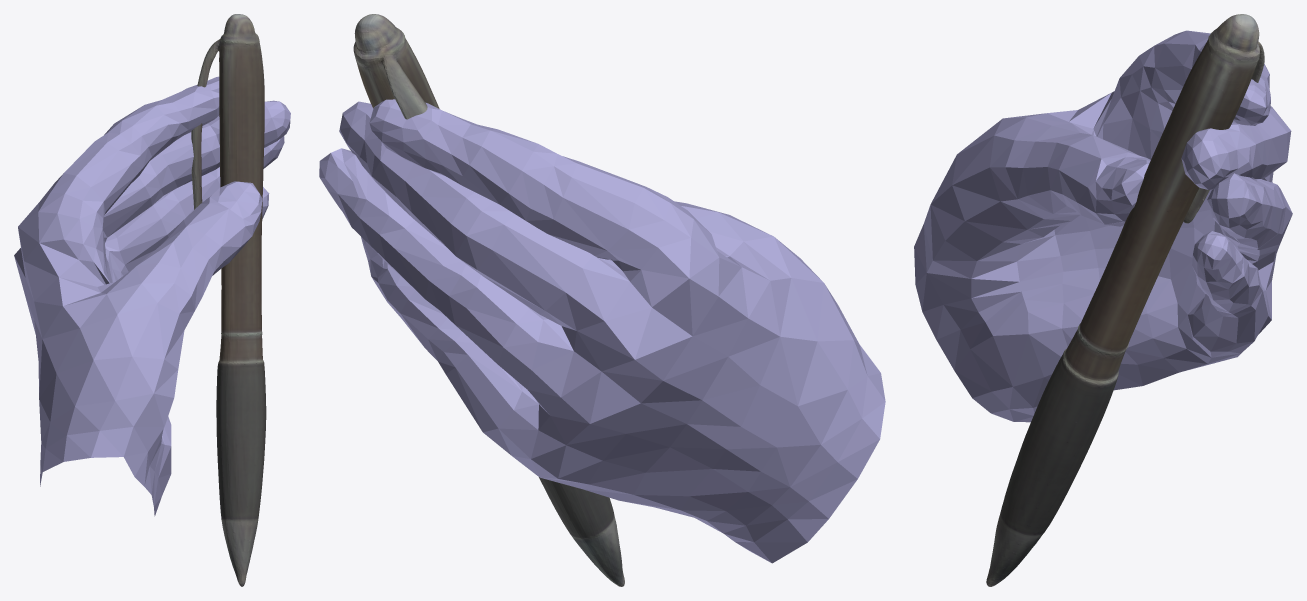
File: frame_0003_source_000003_hand_object.glb
3 renders of one model, left to right at view 1: azimuth 30°, elevation 25°; view 2: azimuth 150°, elevation 25°; view 3: azimuth 270°, elevation 25°, orthographic. The views are drawn at different scales.
Visible parts, largest first — view 1: world; view 2: world; view 3: world.
Boxes of the visible parts, bbox=[...] form: world: bbox=[14, 14, 290, 586]; world: bbox=[319, 14, 885, 586]; world: bbox=[914, 14, 1292, 586].
Size of the model in its own units: 0.1283 by 0.1772 by 0.0965.
